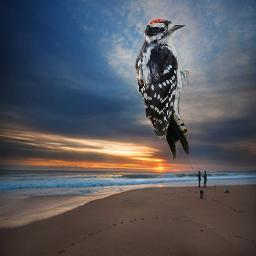Woodpecker: (133, 18, 189, 160)
